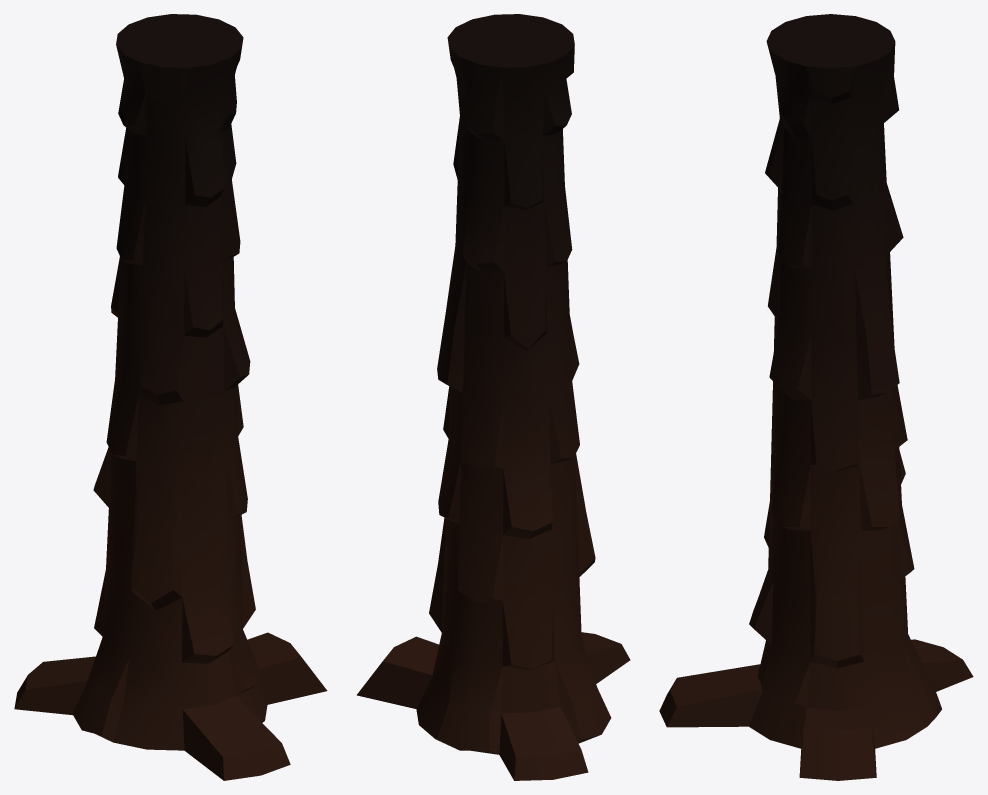
The model's file is Trunk_04.fbx.
3 views of the same model, side by side, from view 1: azimuth 30°, elevation 25°; view 2: azimuth 150°, elevation 25°; view 3: azimuth 270°, elevation 25° (orthographic).
Parts seen in each view (by area): view 1: Trunk_04; view 2: Trunk_04; view 3: Trunk_04.
Part boxes in pixels (bbox=[...]): Trunk_04: bbox=[14, 14, 327, 780]; Trunk_04: bbox=[357, 14, 630, 780]; Trunk_04: bbox=[659, 14, 973, 780].
Size of the model in its own units: 279 by 687 by 291.
